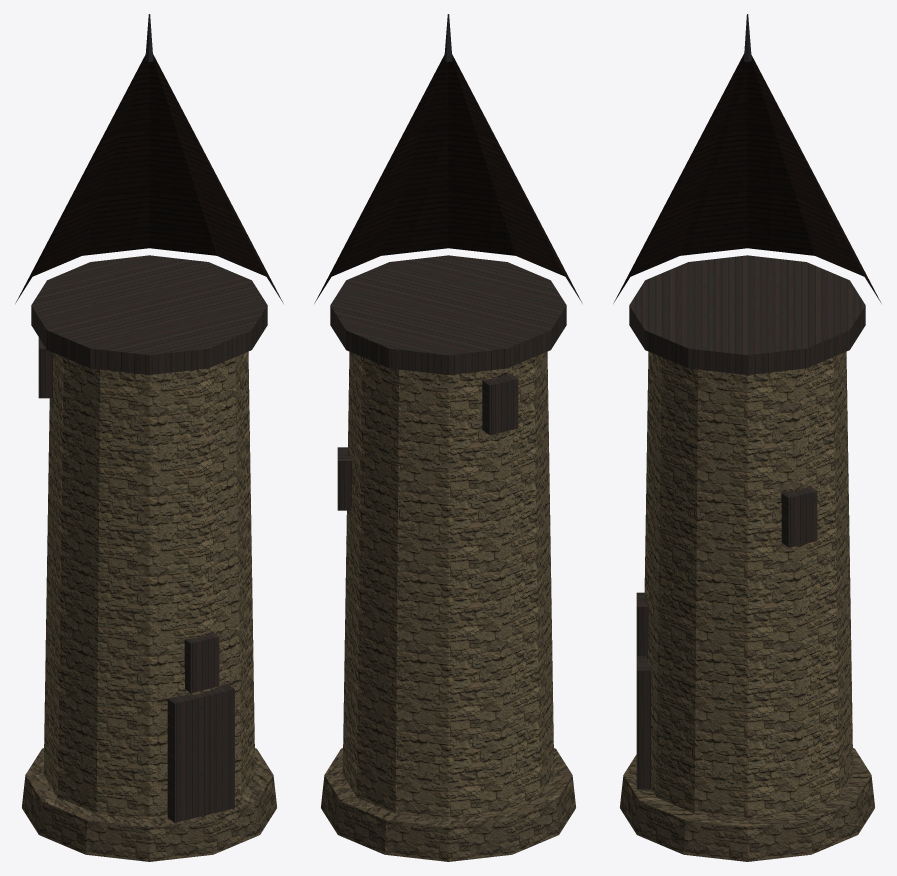
File: tower_pointy_01.glb
3 views of the same model, side by side, from view 1: azimuth 30°, elevation 25°; view 2: azimuth 150°, elevation 25°; view 3: azimuth 270°, elevation 25° (orthographic).
Visible parts, largest first — view 1: tower_pointy_01; view 2: tower_pointy_01; view 3: tower_pointy_01.
Boxes of the visible parts, left/top/right/bottom form: tower_pointy_01: left=15, top=14, right=283, bottom=861; tower_pointy_01: left=314, top=14, right=582, bottom=861; tower_pointy_01: left=613, top=14, right=881, bottom=861.
Bounding box in the file's own units: 3.7 × 12 × 3.7.
Materials: 5 (5 with a texture image).
